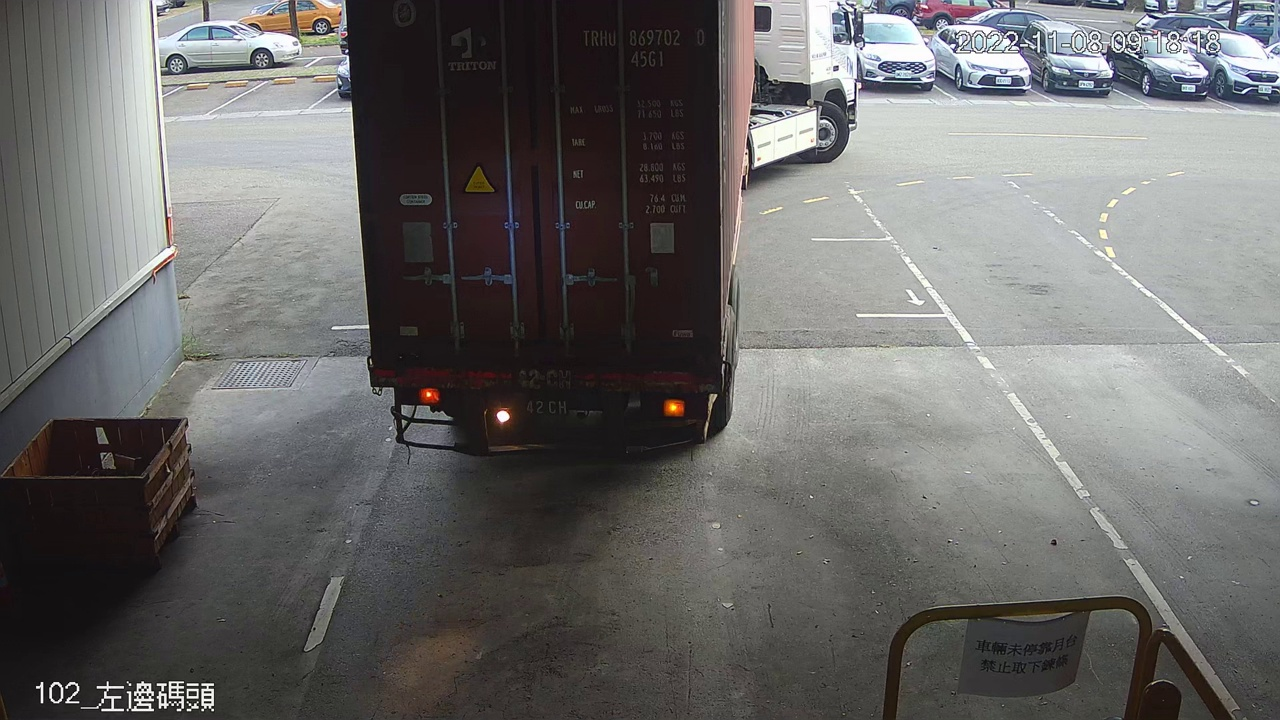container: (575, 21, 712, 74)
